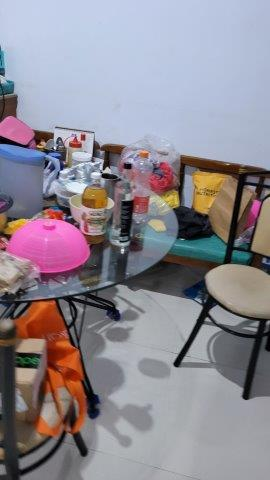botolkaca: (110, 159, 137, 252)
